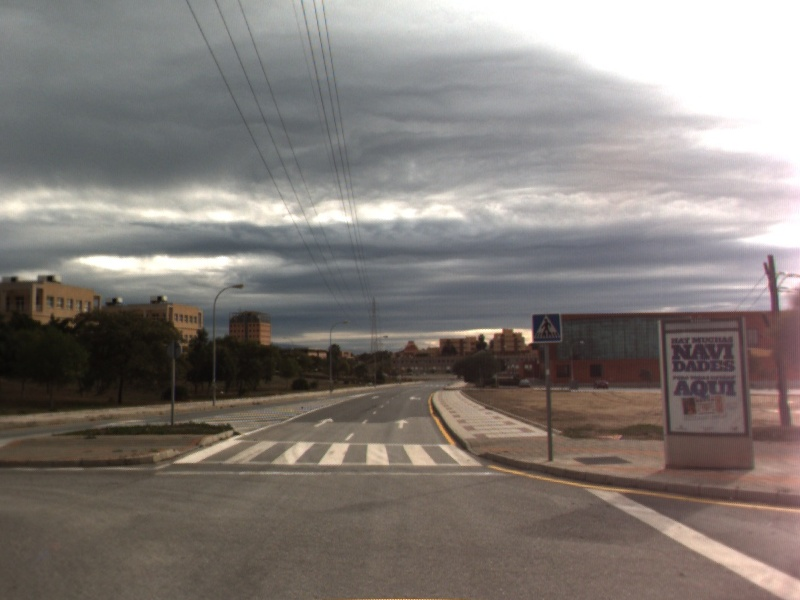STRAIGHT: (311, 414, 336, 429), (391, 417, 411, 431)
